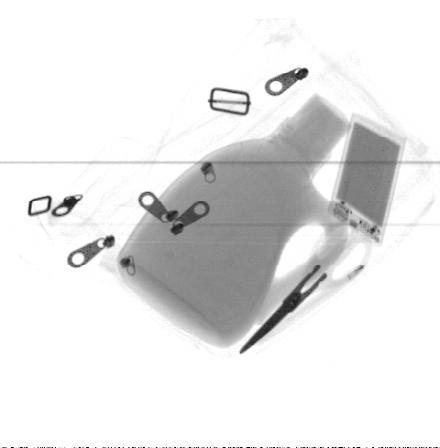Powerbank: (326, 114, 407, 248)
Scissors: (237, 209, 377, 360)
